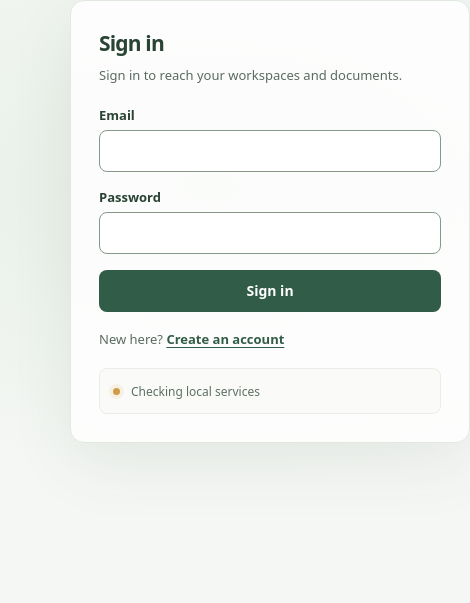
Test: AuthCard › lists field problems from the API
Click the button "Create an account" at point(225, 339), box left=166, top=330, right=284, bottom=348
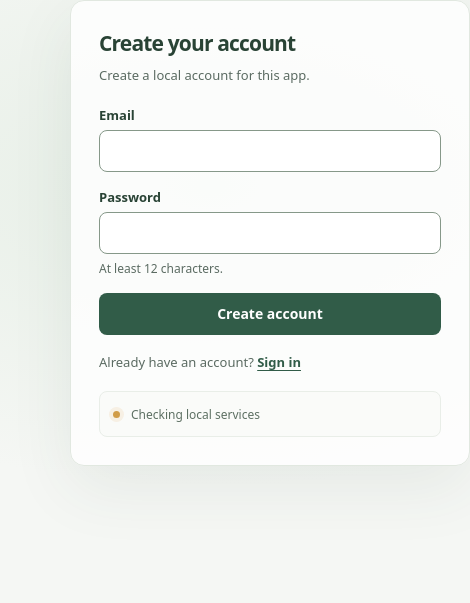
Type "reader@example.com" into the field labelled "Email" at point(270, 151), box left=99, top=130, right=441, bottom=172
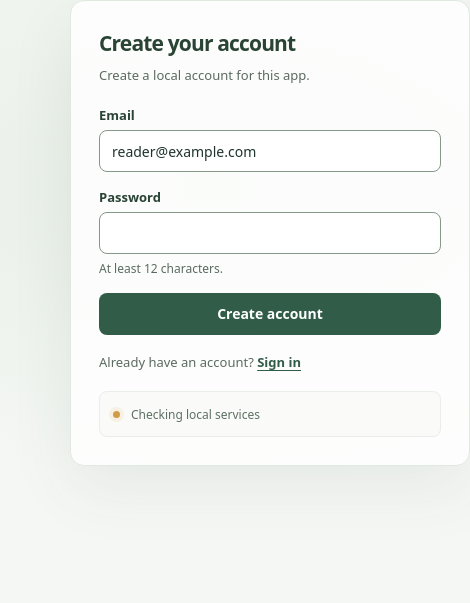
Type "correct horse battery" into the password field labelled "Password" at point(270, 233), box left=99, top=212, right=441, bottom=254
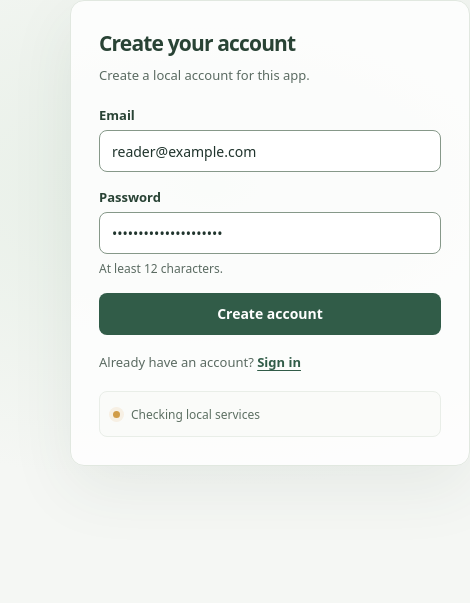
Click the button "Create account" at point(270, 314), box left=99, top=293, right=441, bottom=335
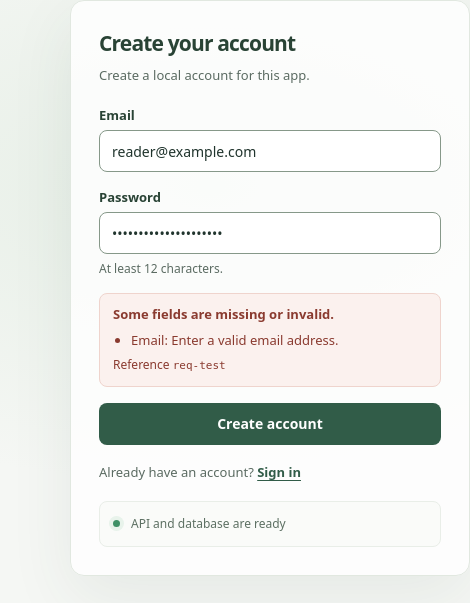
Expected: the message that starts with "Some fields are missing or invalid." is shown, left=113, top=305, right=334, bottom=323
Expected: the message that starts with "Some fields are missing or invalid." shows "Email: Enter a valid email address.", left=131, top=331, right=338, bottom=349
